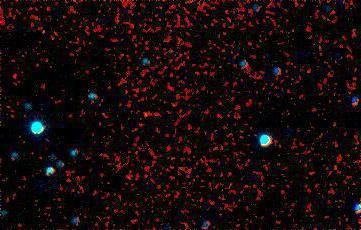star: (130, 101, 160, 131)
